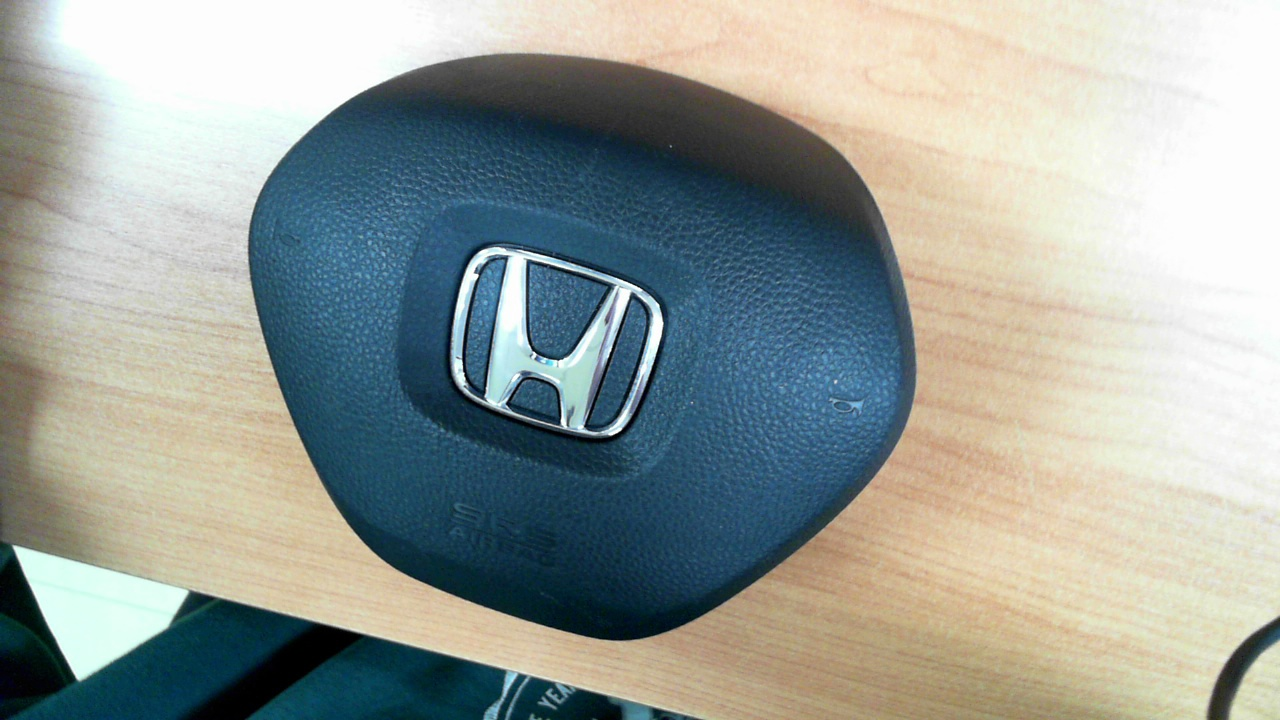Airbag: (246, 52, 918, 642)
Honda: (449, 246, 665, 437)
